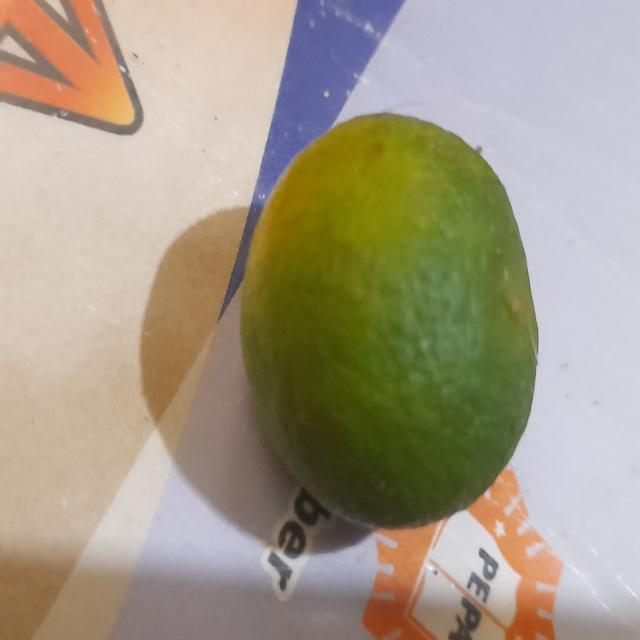heathy: (240, 111, 539, 531)
